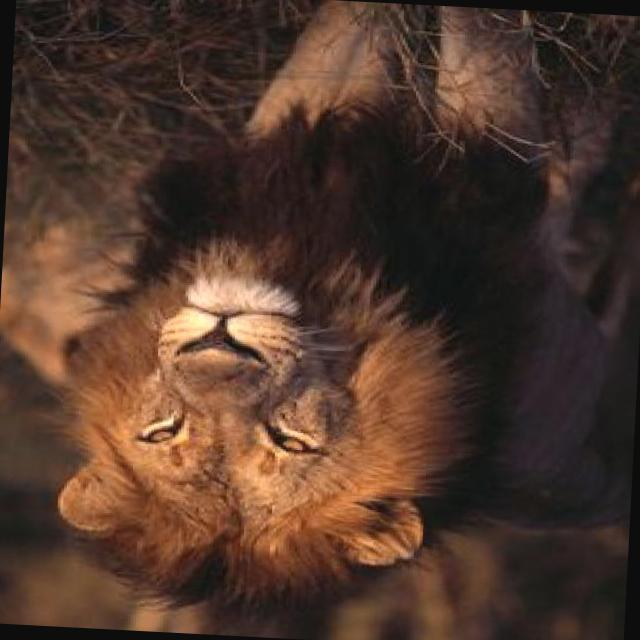lions: (0, 40, 581, 640)
